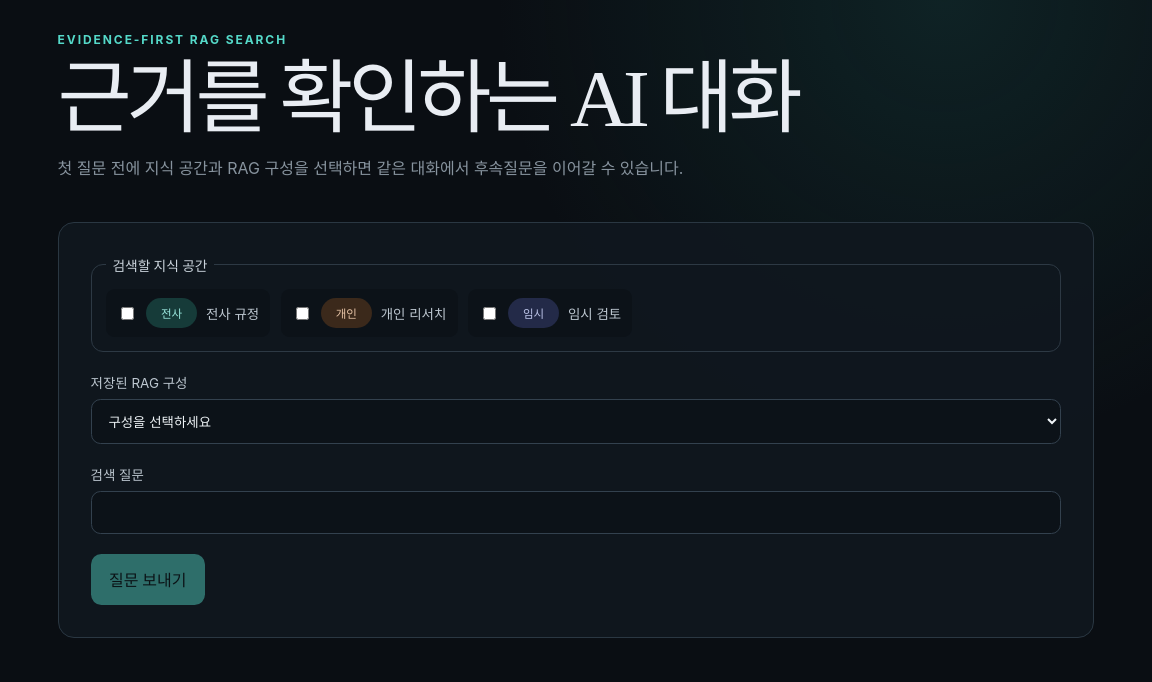
Test: SearchPage › searches only explicitly selected workspaces and places confirmed evidence before related documents
Click the checkbox labelled "전사 전사 규정". click: (128, 313)
box: left=121, top=306, right=134, bottom=320
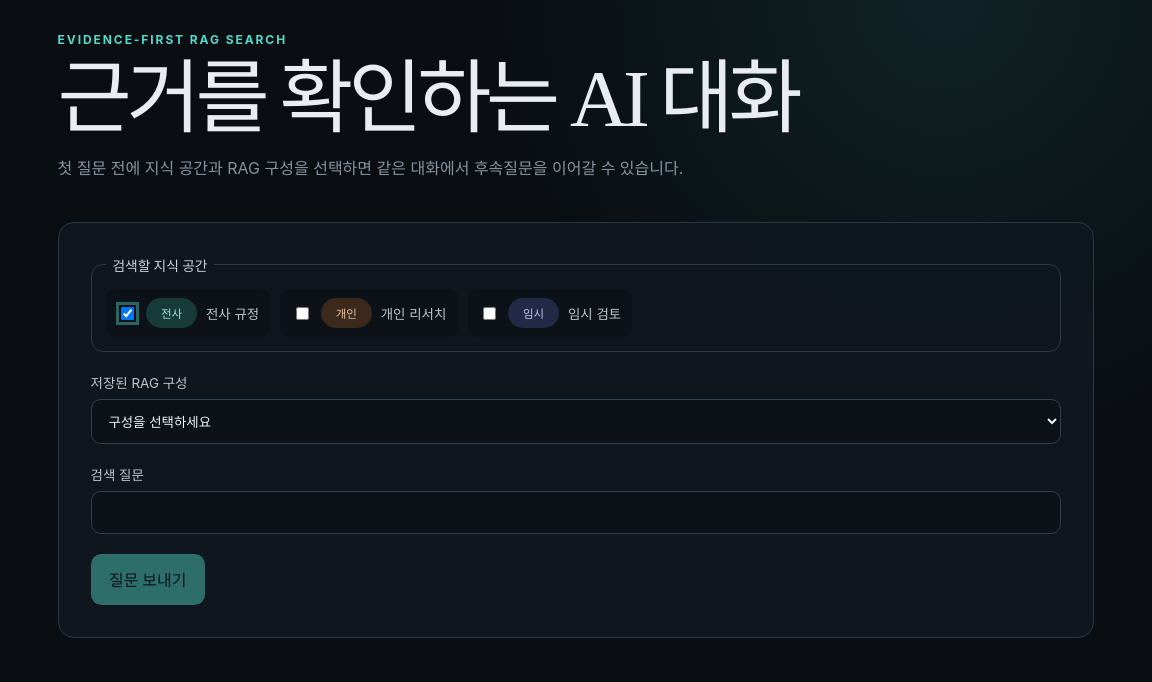
Click the checkbox labelled "개인 개인 리서치". click: (302, 313)
box: left=296, top=306, right=309, bottom=320
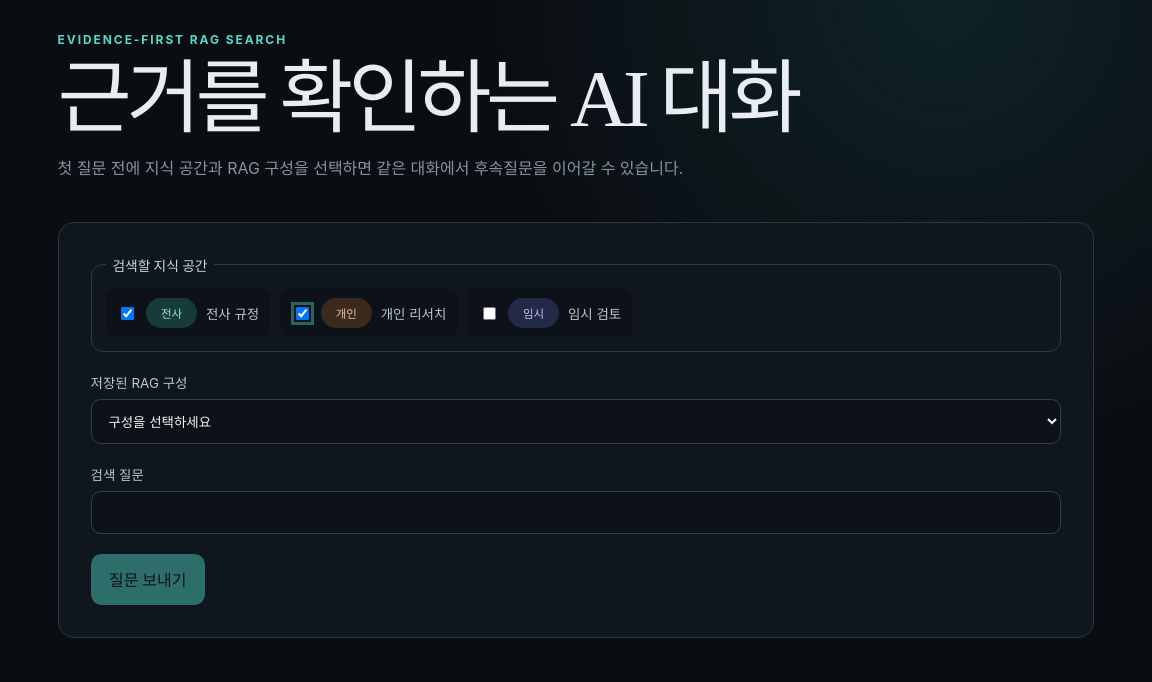
Select "승인된 하이브리드 v3" in the dropdown labelled "저장된 RAG 구성". click: (576, 422)
box: left=91, top=399, right=1061, bottom=444
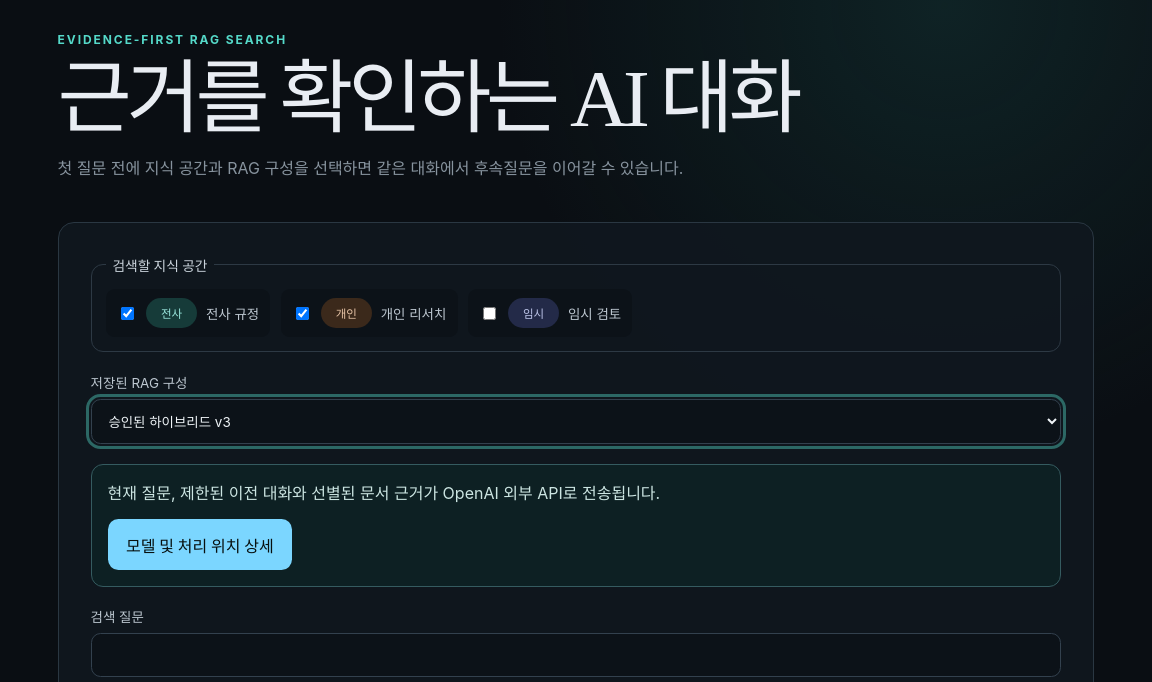
Type "환매 제한은 무엇인가요?" into the search field labelled "검색 질문". click: (576, 655)
box: left=91, top=634, right=1061, bottom=677
(page scrolled)
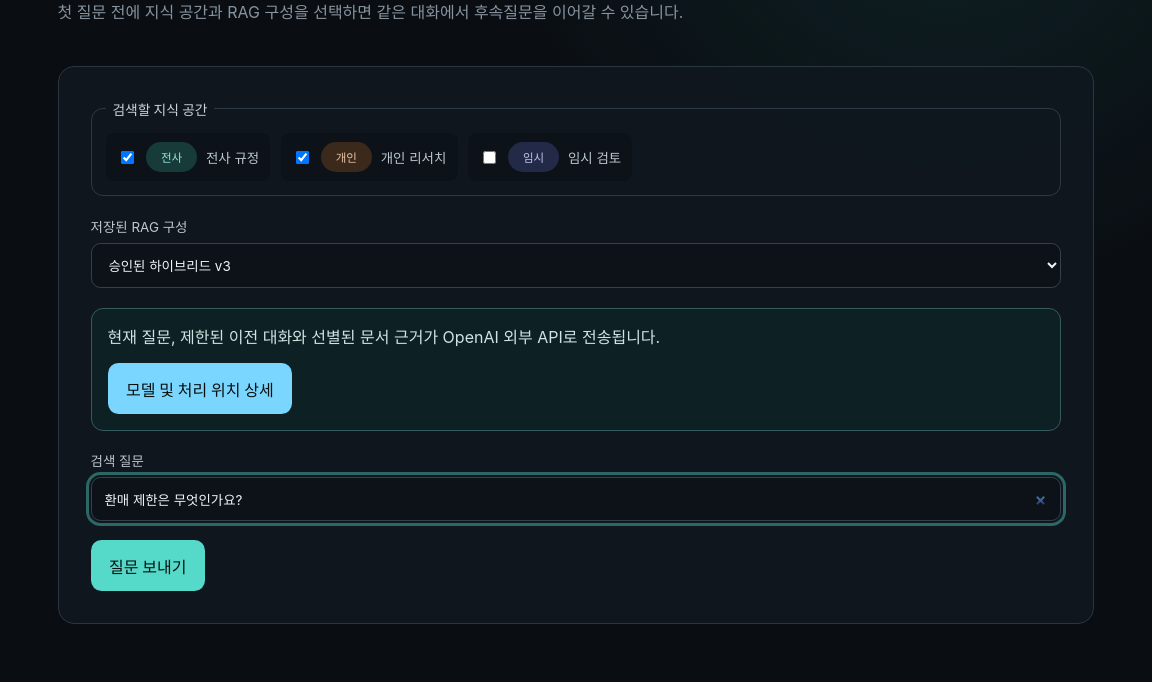
Click the button "질문 보내기". click: (148, 566)
box: left=91, top=540, right=205, bottom=592
(page scrolled)
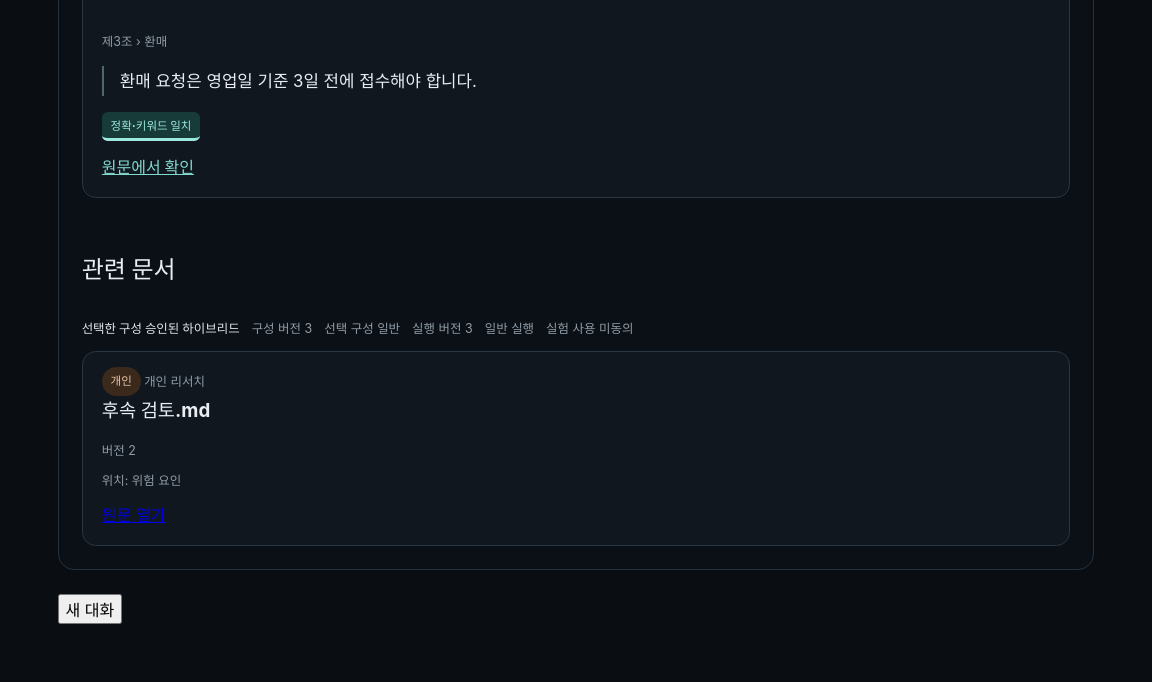
Result: the text "환매 요청은 영업일 기준 3일 전에 접수해야 합니다." is shown at left=102, top=66, right=1050, bottom=96
Result: the heading "후속 검토.md" is shown at left=102, top=399, right=210, bottom=422
